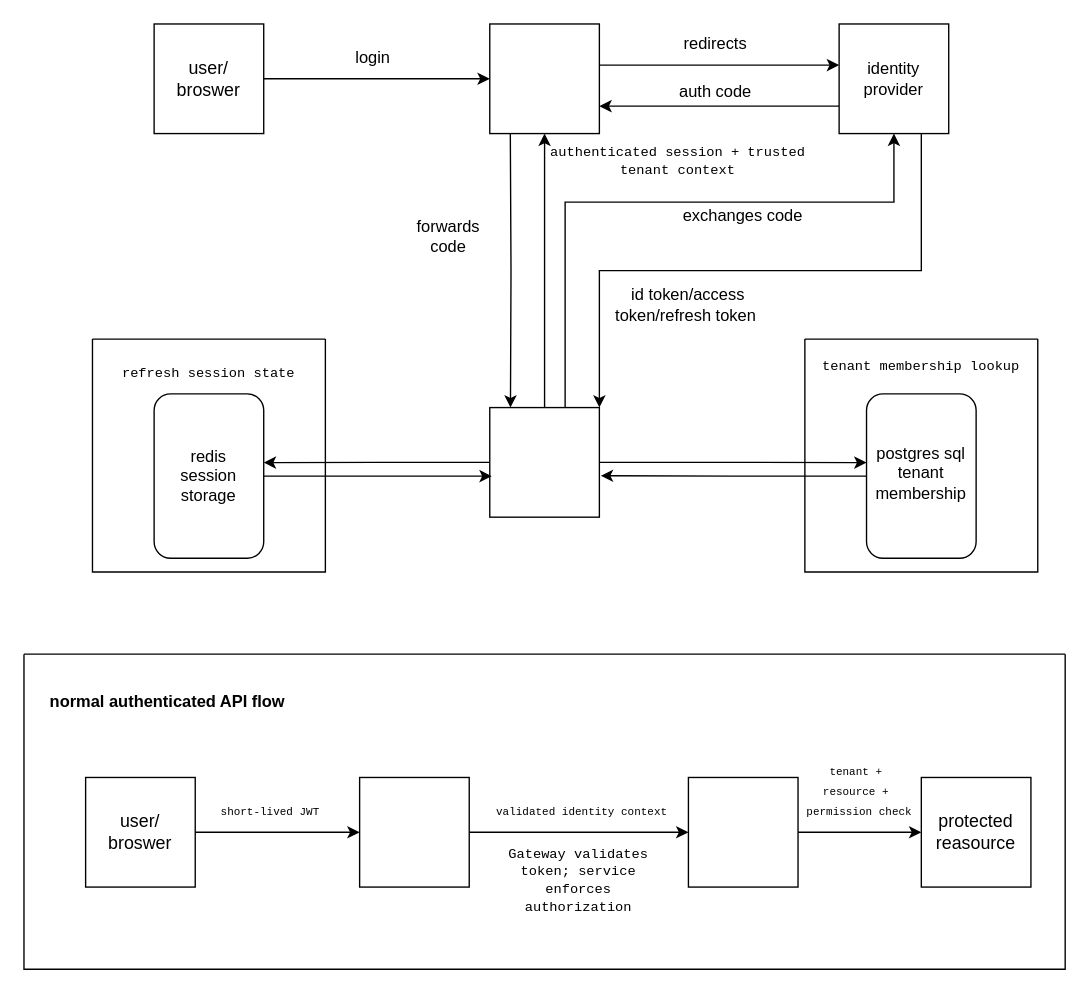
Image size: 1089x993. Some labels were removed from this diagram. The shapes that lost their labels are listed below. From the top down, each one's centre as x and y in pixels, then its label:
At [543,78]: "SAAS frontend".
At [543,461]: "auth/identity service".
At [413,831]: "api gateway".
At [742,831]: "application services".
